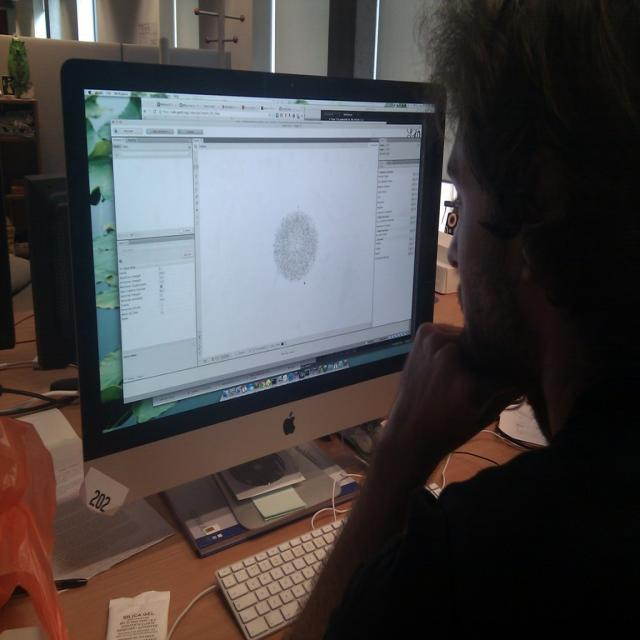desk: (0, 293, 546, 639)
keyboard: (214, 520, 349, 639)
tv: (62, 55, 444, 524)
